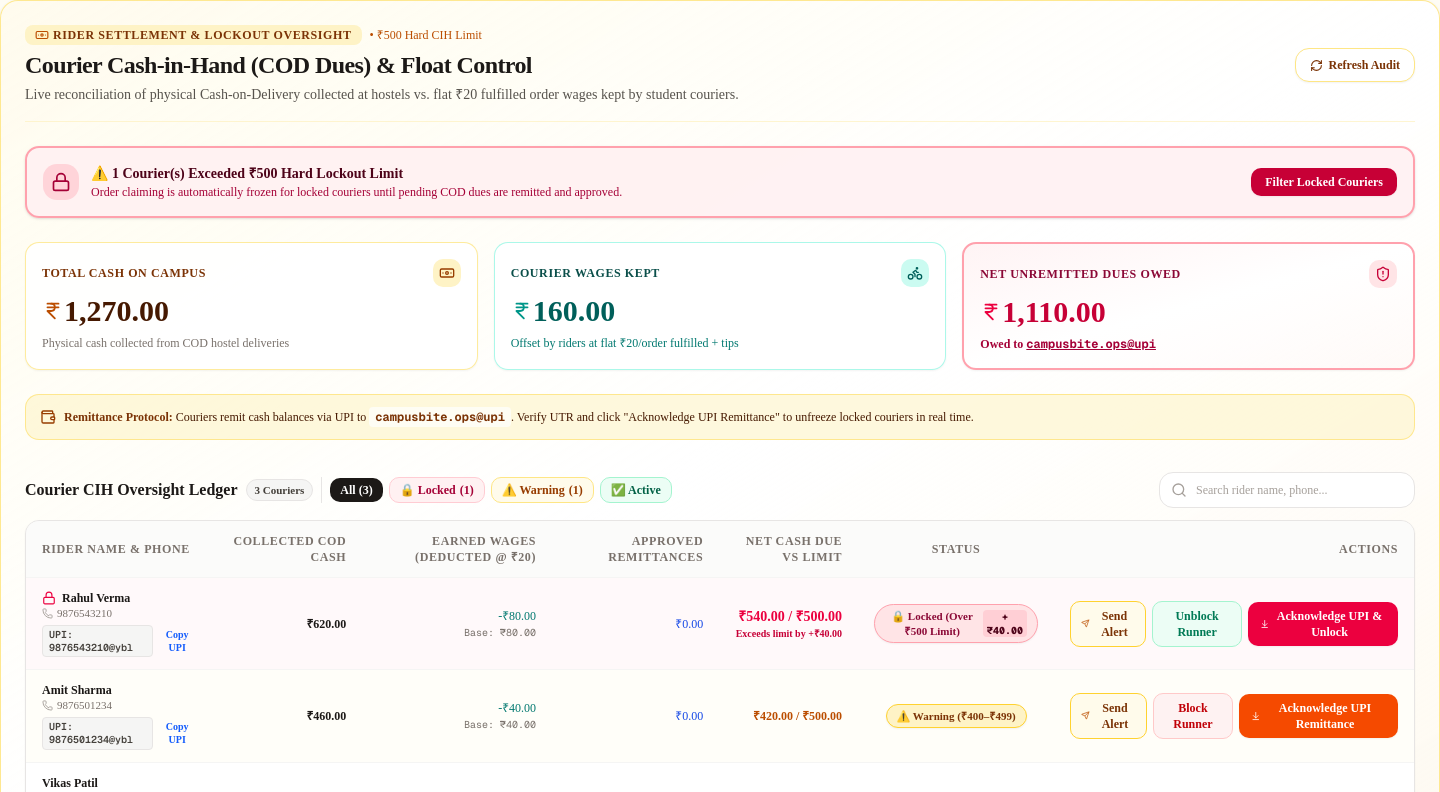
Test: AdminRiderCihOversight Component › filters couriers by status tabs
Expected: the text "Rahul Verma" is shown, [62,590,130,606]
Filter to Locked only
Click the button "🔒 Locked (1)" at (437, 490), box [389,477,485,503]
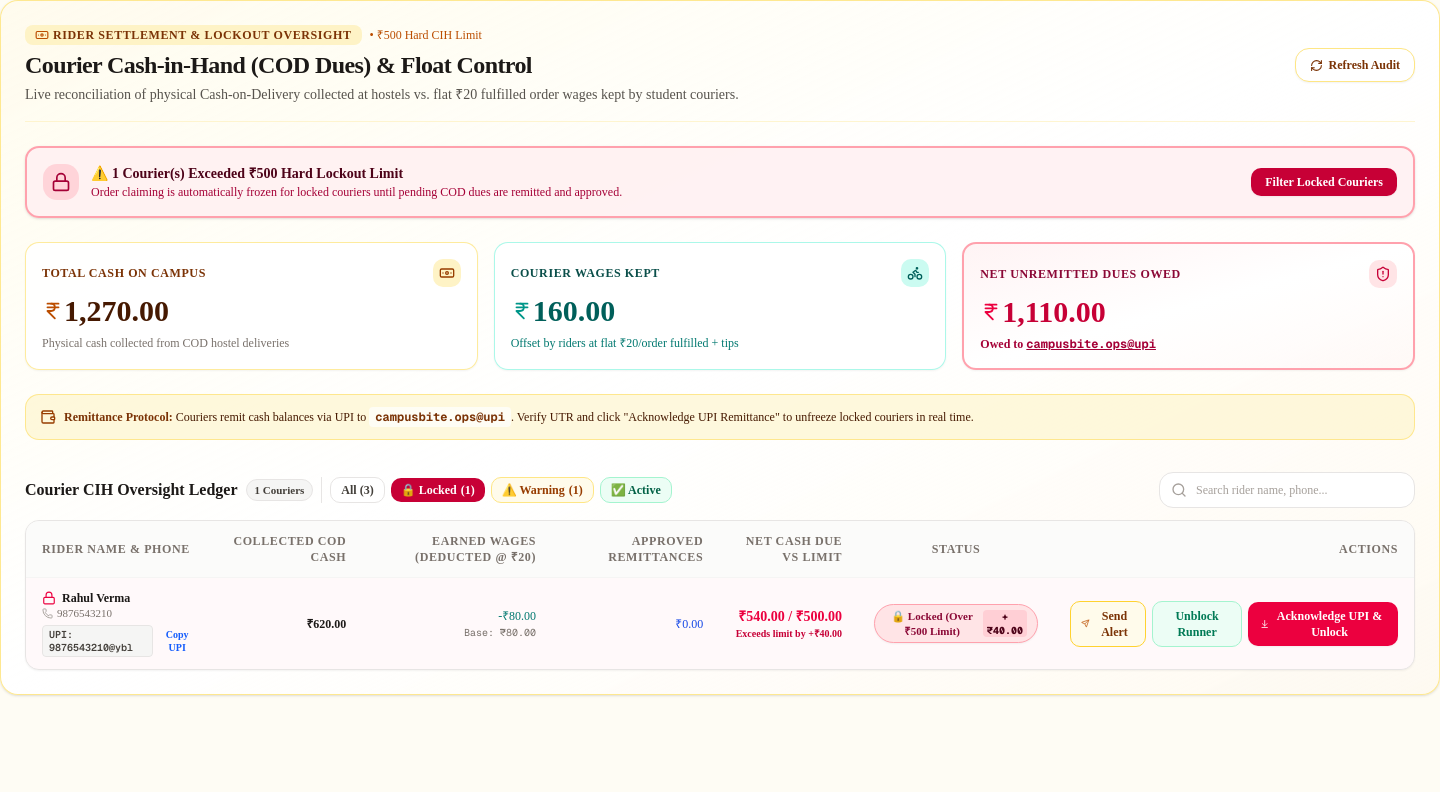
Expected: the text "Rahul Verma" is shown, [62,590,130,606]
Result: the text "Vikas Patil" is gone
Filter to Active only
Click the button "✅ Active" at (636, 490), box [600,477,672,503]
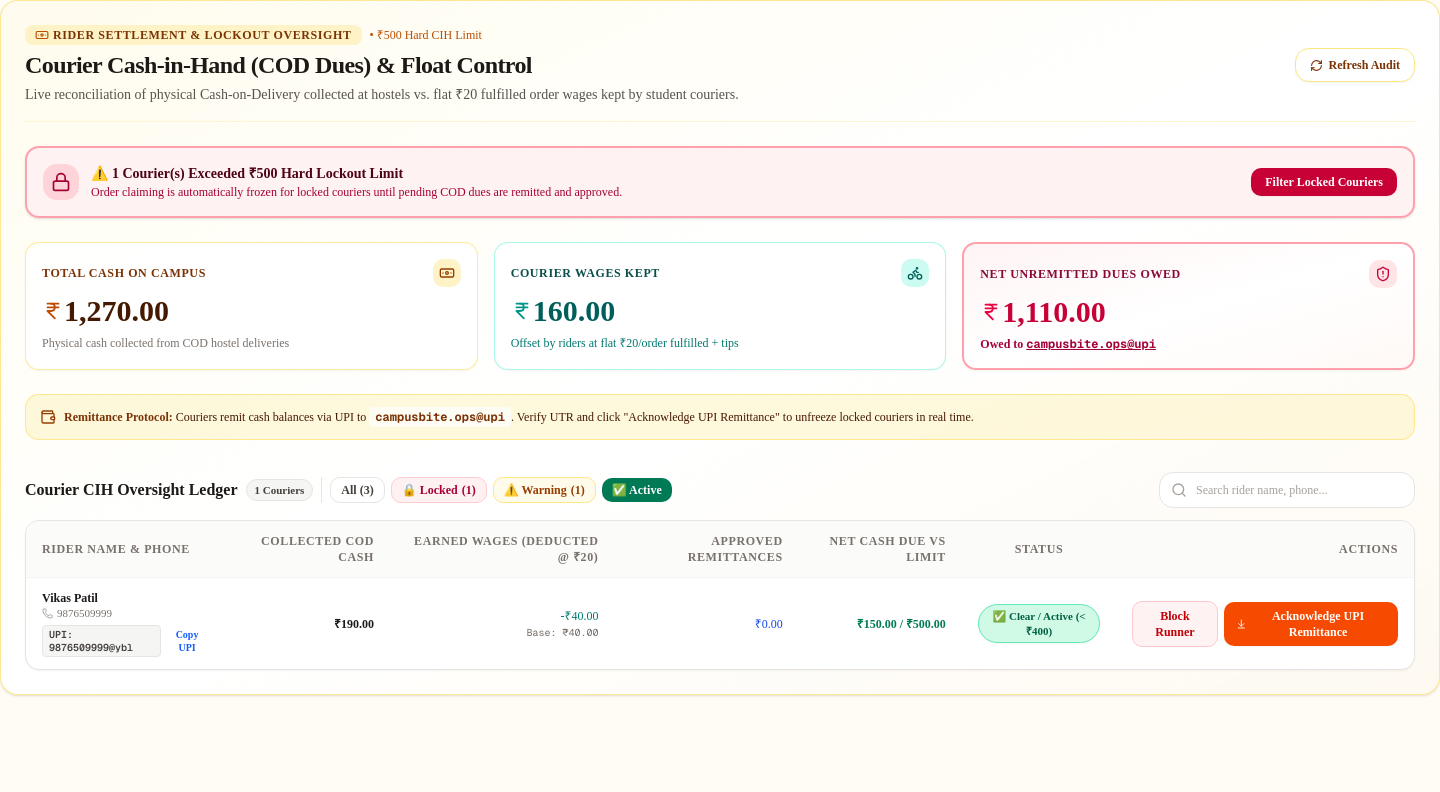
Result: the text "Vikas Patil" is shown at [42,590,98,606]
Result: the text "Rahul Verma" is gone
